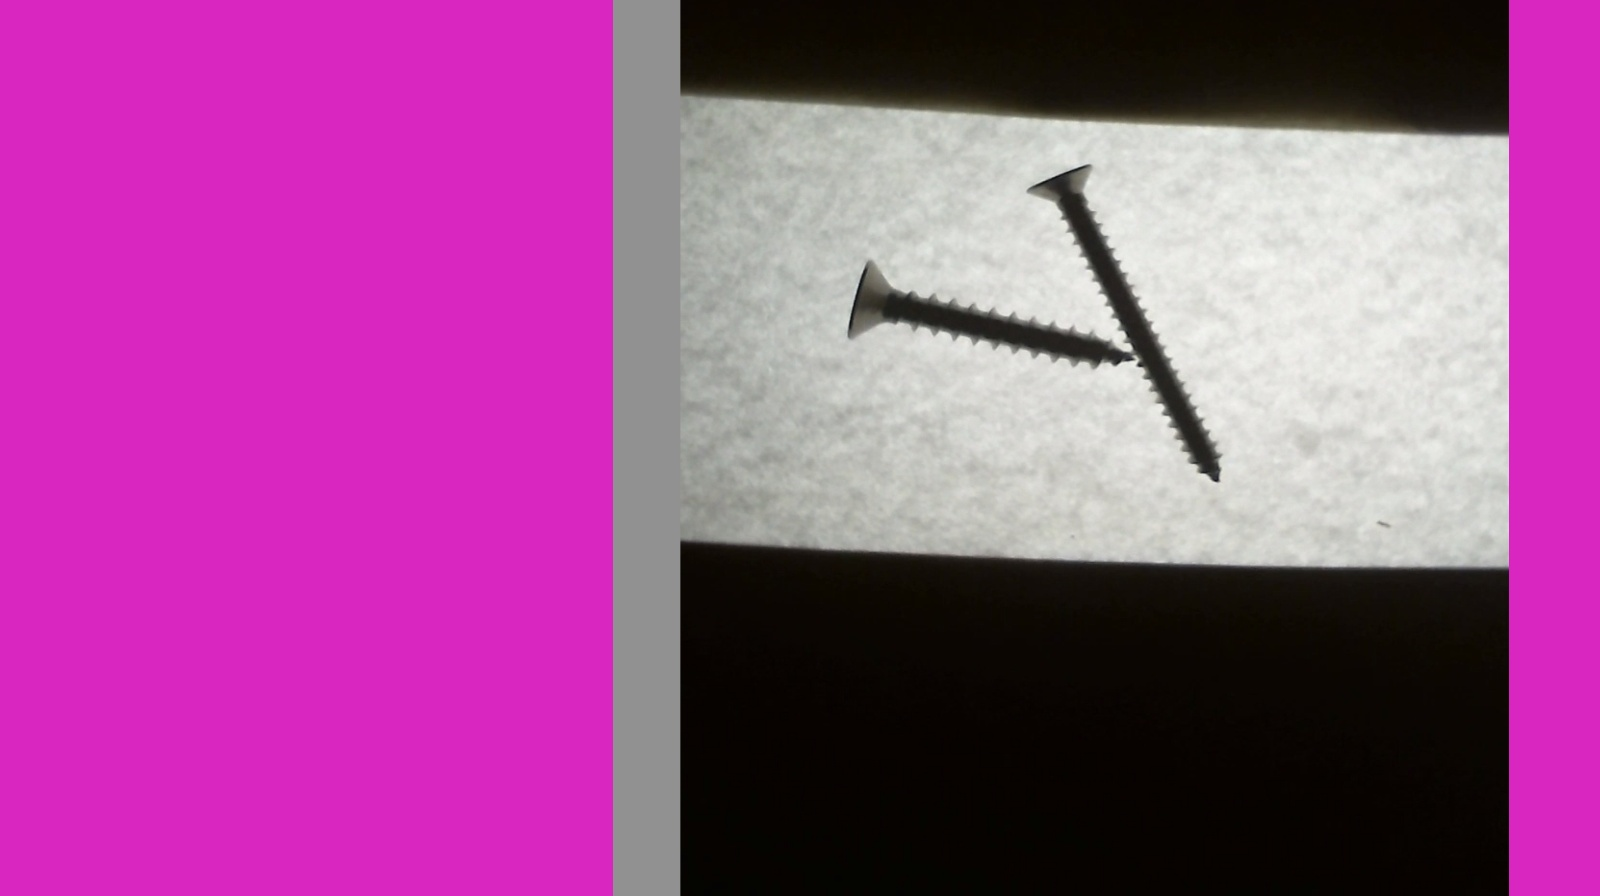S001: (841, 257, 1138, 378)
S002: (1022, 157, 1225, 485)
